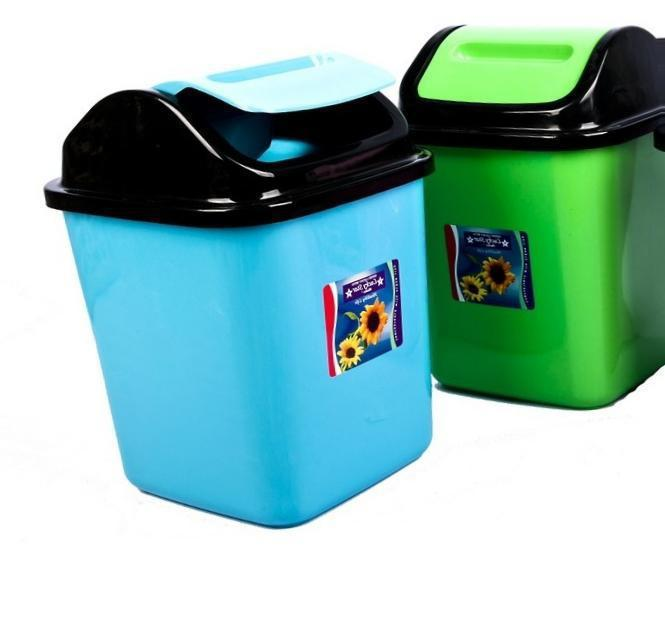Bote de Basura: (44, 39, 439, 538), (414, 36, 664, 406)
